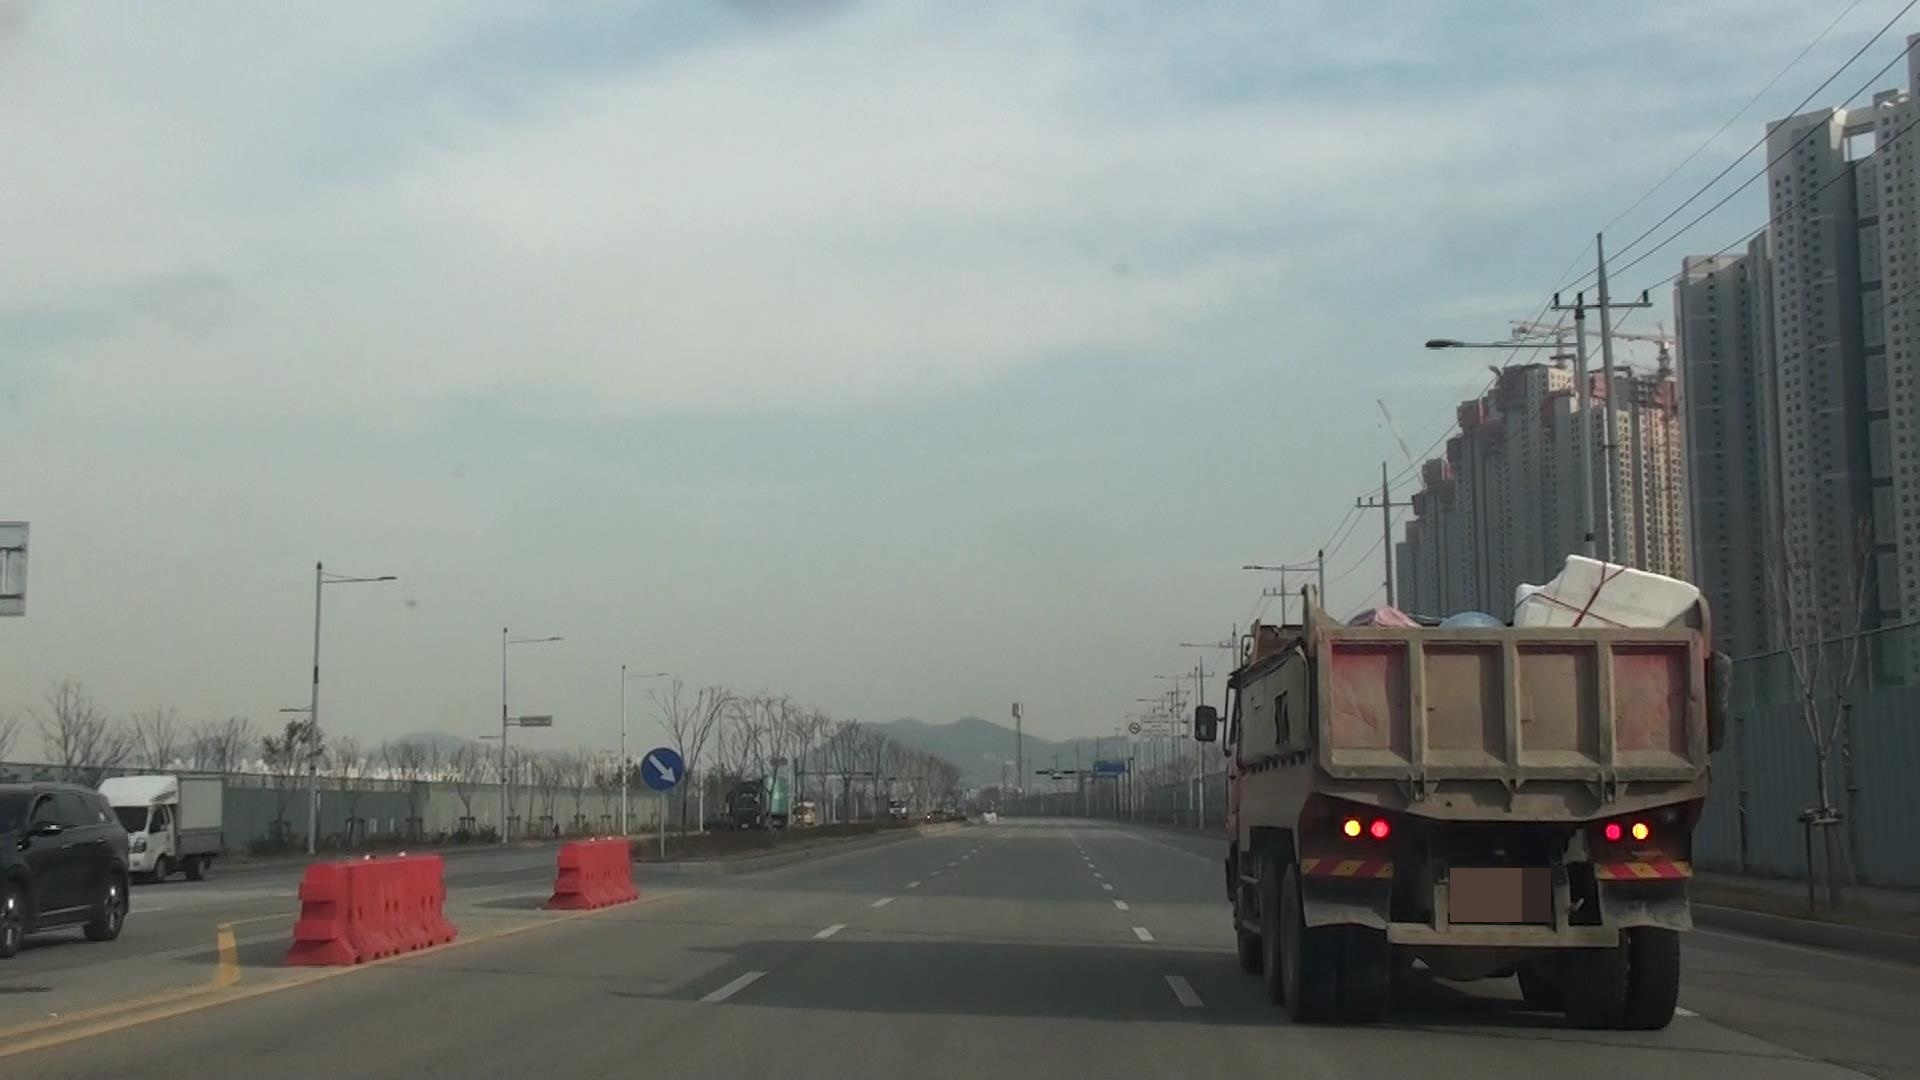불법차량: (1196, 553, 1734, 1033)
